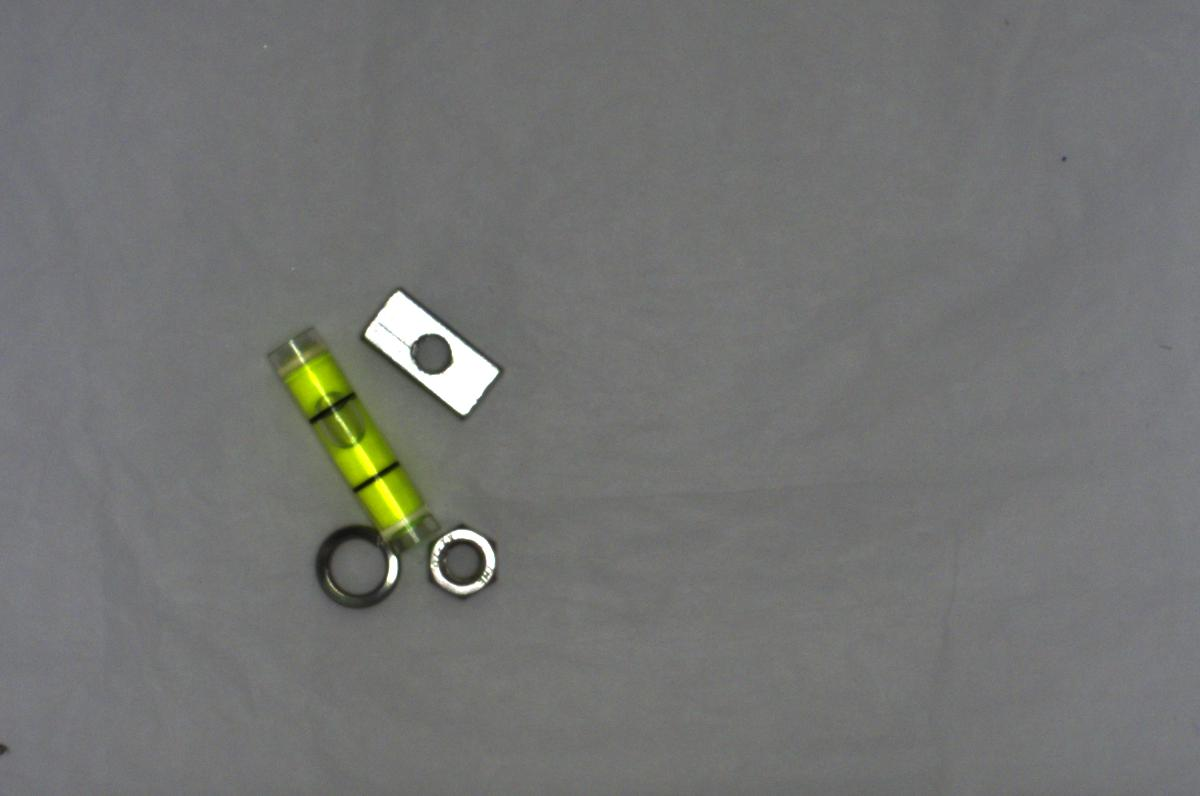Hexagon nut: (427, 521, 501, 603)
Horizontal bubble: (265, 322, 433, 552)
Rectangular nut: (366, 290, 508, 420)
Spring washer: (307, 521, 405, 616)
